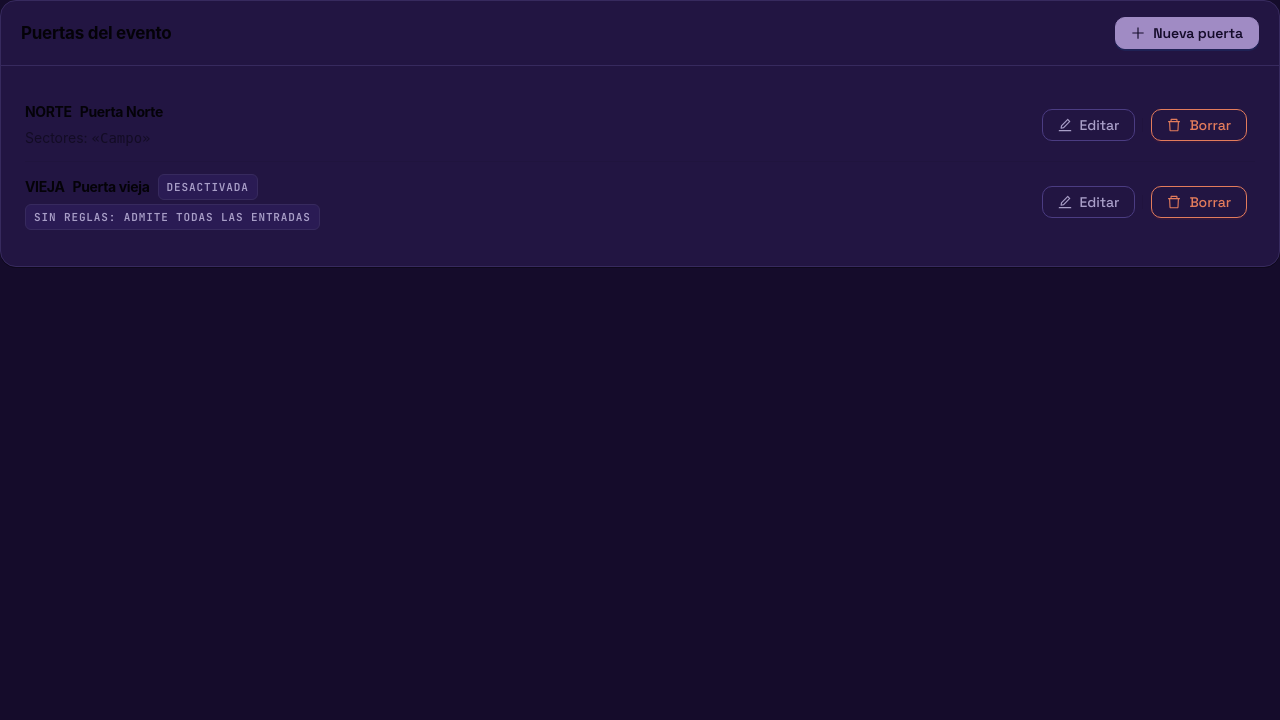
Test: GatesCard › avisa cuando el evento no tiene asientos cargados
Click the button "Nueva puerta" at (1187, 33), box [1115,17,1259,49]
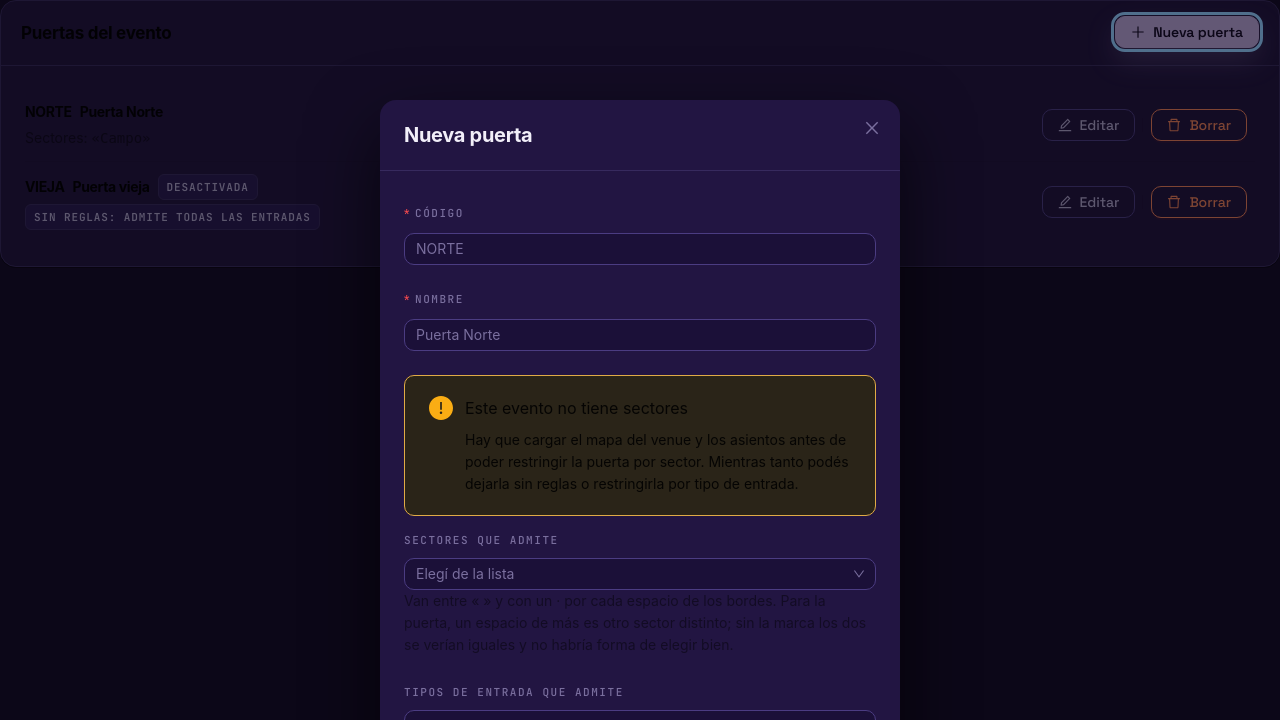
Expected: the text "cargar el mapa" is shown, [465,431,849,492]
